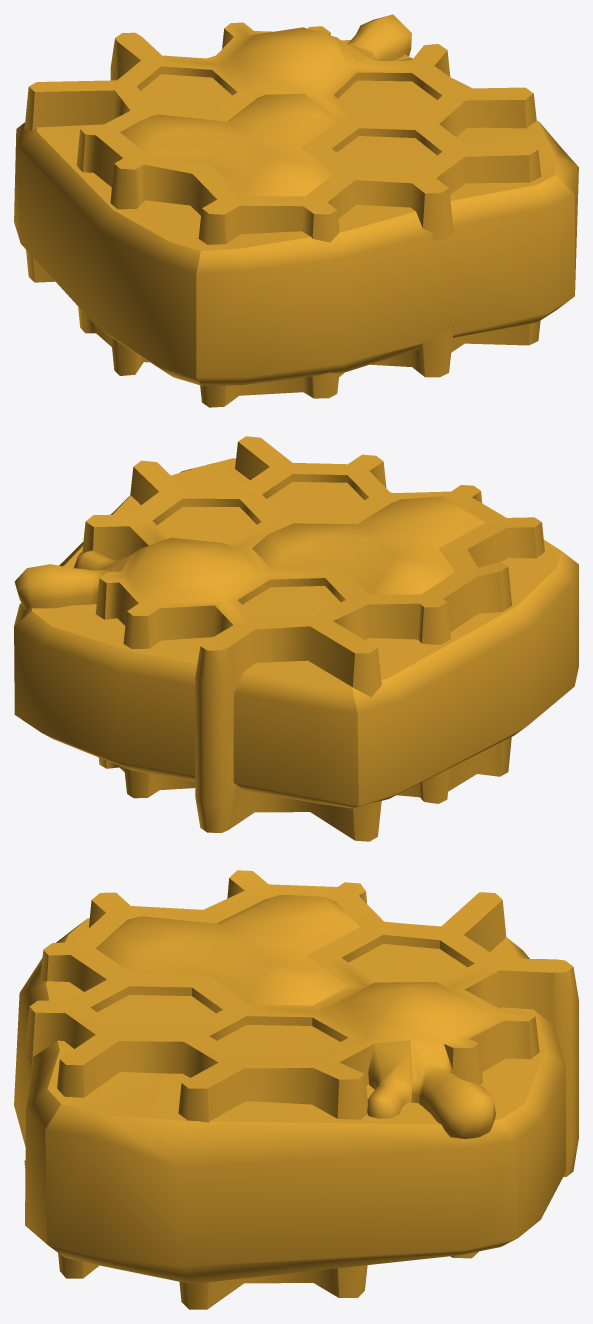
The model's file is obj_harvest_resource_beewax.fbx.
3 views of the same model, one above another, from view 1: azimuth 30°, elevation 25°; view 2: azimuth 150°, elevation 25°; view 3: azimuth 270°, elevation 25° (orthographic). The views are drawn at different scales.
Parts seen in each view (by area): view 1: cake, Beewax, slem; view 2: Beewax, cake, slem; view 3: Beewax, cake, slem.
Part boxes in pixels (left/top/right/bottom): cake: left=14, top=40, right=578, bottom=385; Beewax: left=24, top=22, right=541, bottom=407; slem: left=345, top=14, right=412, bottom=60; Beewax: left=82, top=436, right=544, bottom=841; cake: left=14, top=458, right=578, bottom=808; slem: left=14, top=550, right=131, bottom=609; Beewax: left=24, top=870, right=578, bottom=1309; cake: left=14, top=918, right=565, bottom=1283; slem: left=367, top=1040, right=495, bottom=1138.
Bounding box in the file's own units: 2.26 × 1.11 × 2.26.
